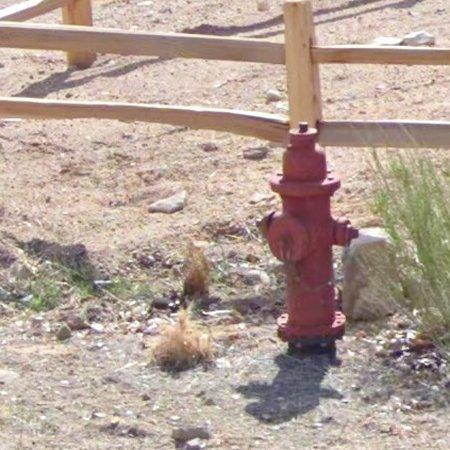a fire hydrant: (261, 124, 359, 351)
